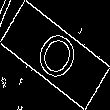O_SW: (28, 22, 82, 88)
